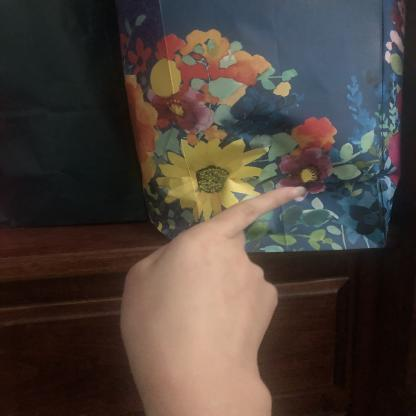finger_point: (182, 180, 313, 242)
